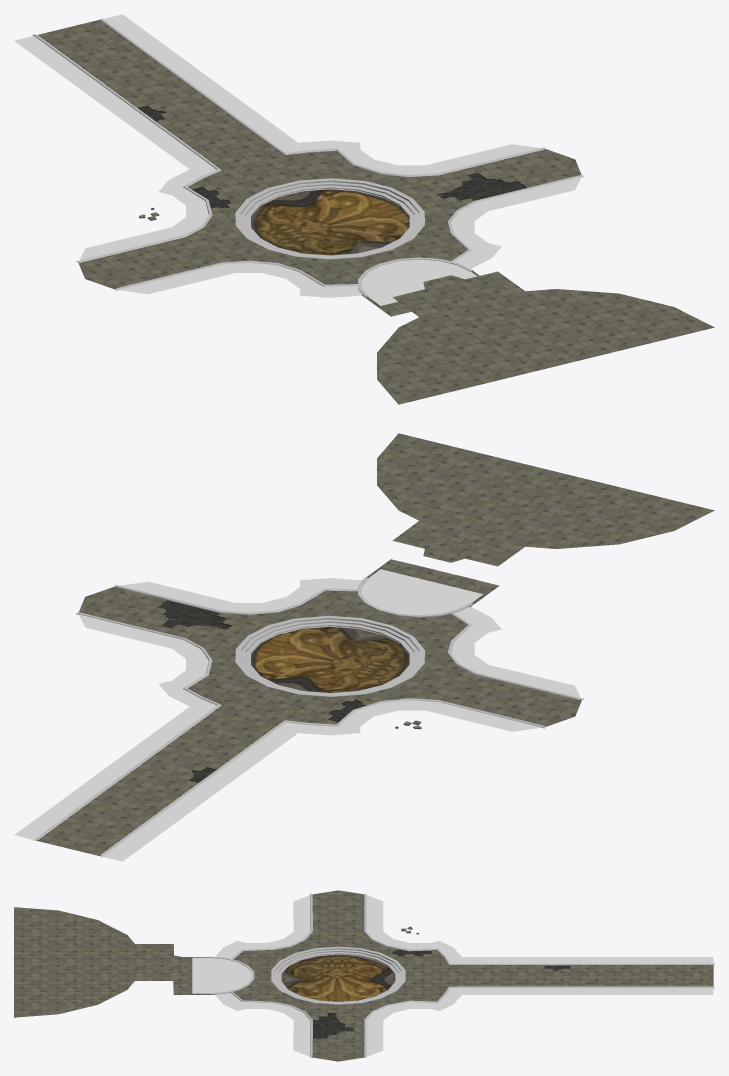
The model's file is f_0001_floor_t4m.FBX.
3 renders of one model, top to bottom at view 1: azimuth 30°, elevation 25°; view 2: azimuth 150°, elevation 25°; view 3: azimuth 270°, elevation 25°, orthographic. The views are drawn at different scales.
Visible parts, largest first — view 1: Cylinder001 (×2), Object842, Object843, Shape004, Object844; view 2: Cylinder001 (×2), Object842, Object843, Shape004, Object844; view 3: Cylinder001 (×2), Object842, Object843, Shape004, Object844.
Part boxes in pixels (x1=…): Cylinder001 (×2): x1=33, y1=18, x2=714, y2=404; Object842: x1=14, y1=14, x2=581, y2=305; Object843: x1=251, y1=189, x2=409, y2=255; Shape004: x1=235, y1=178, x2=424, y2=259; Object844: x1=138, y1=105, x2=526, y2=208; Cylinder001 (×2): x1=33, y1=433, x2=714, y2=857; Object842: x1=14, y1=569, x2=581, y2=861; Object843: x1=251, y1=626, x2=409, y2=692; Shape004: x1=235, y1=615, x2=424, y2=697; Object844: x1=158, y1=600, x2=366, y2=782; Cylinder001 (×2): x1=14, y1=890, x2=714, y2=1061; Object842: x1=192, y1=895, x2=713, y2=1057; Object843: x1=281, y1=954, x2=395, y2=1001; Shape004: x1=271, y1=946, x2=405, y2=1004; Object844: x1=313, y1=949, x2=570, y2=1038.
Bounding box in the file's own units: 4800 × 217 × 8304.
